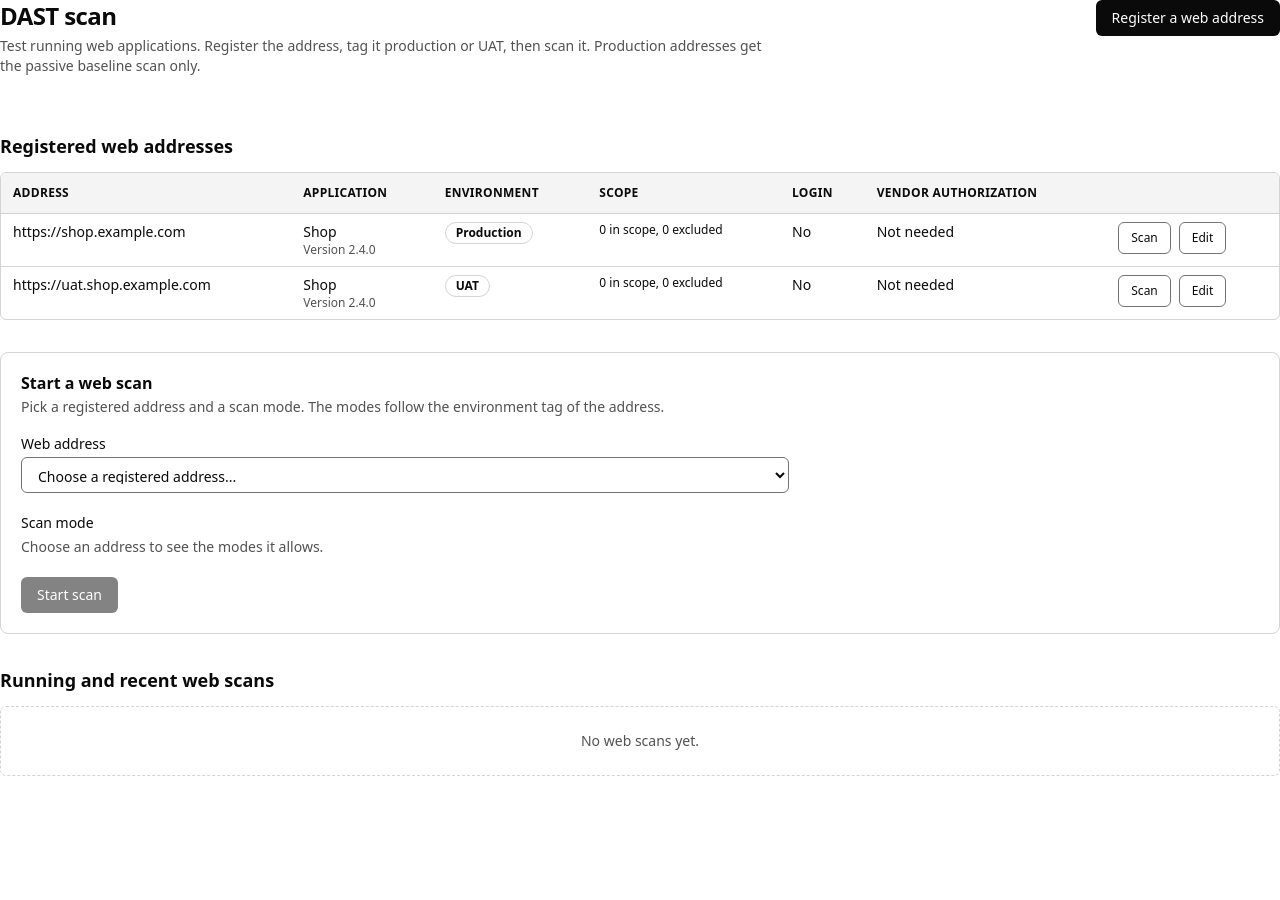
Test: DastPage target form › allows a login profile only once the address is tagged UAT
The width and height of the screenshot is (1280, 900).
Click the button "Register a web address". click: x=1188, y=18
box: [1096,0,1279,36]
(page scrolled)
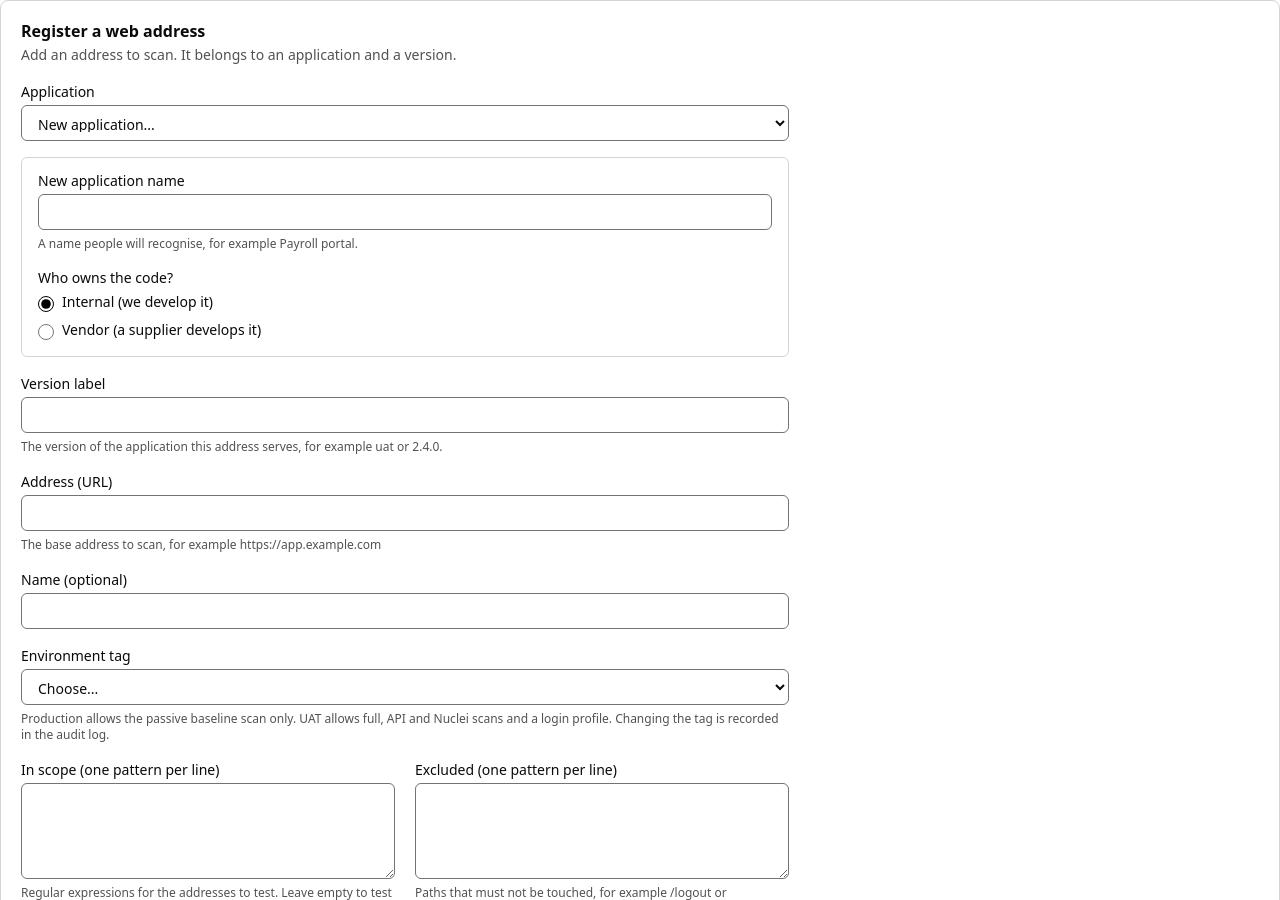
Select "Production" in the dropdown labelled "Environment tag". click: x=405, y=687
box: [21,669,789,705]
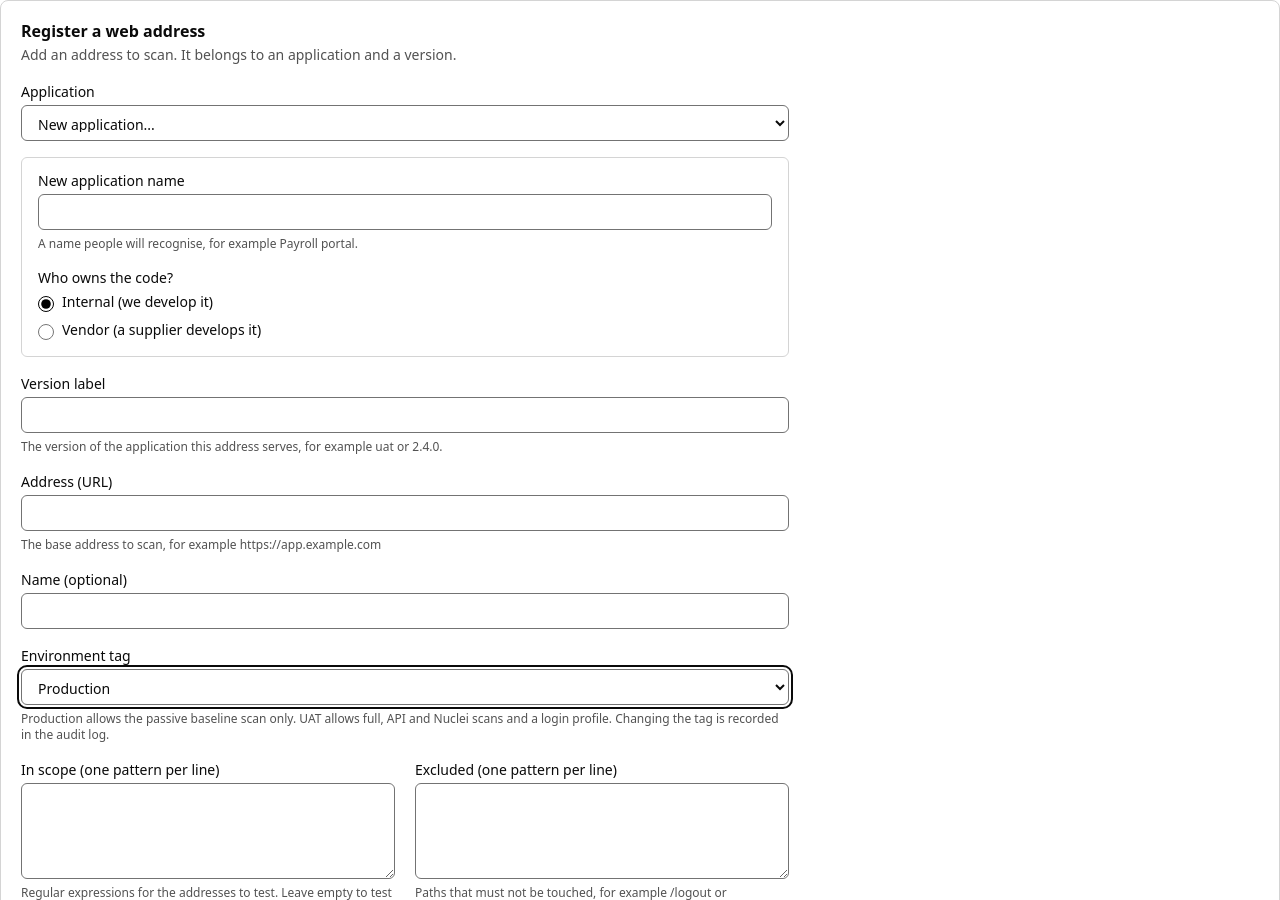
Select "UAT" in the dropdown labelled "Environment tag". click: x=405, y=687
box: [21,669,789,705]
(page scrolled)
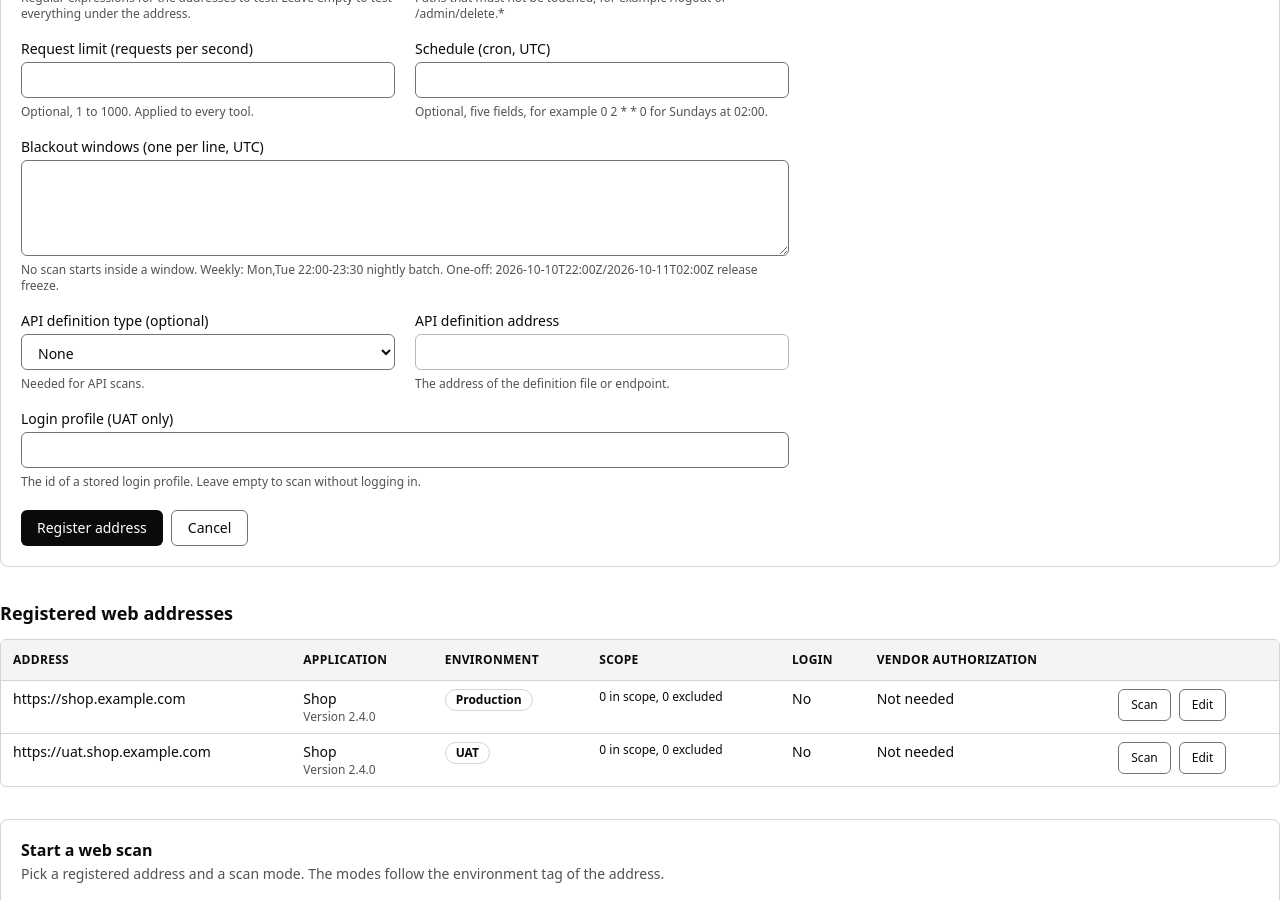
Result: the field labelled "Login profile (UAT only)" is enabled at [21,432,789,468]
